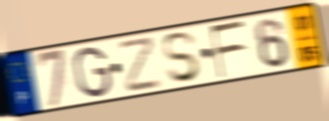6: (253, 16, 290, 69)
7: (34, 46, 69, 110)
F: (208, 18, 247, 80)
G: (71, 45, 113, 100)
S: (160, 30, 203, 85)
Z: (117, 33, 164, 95)
